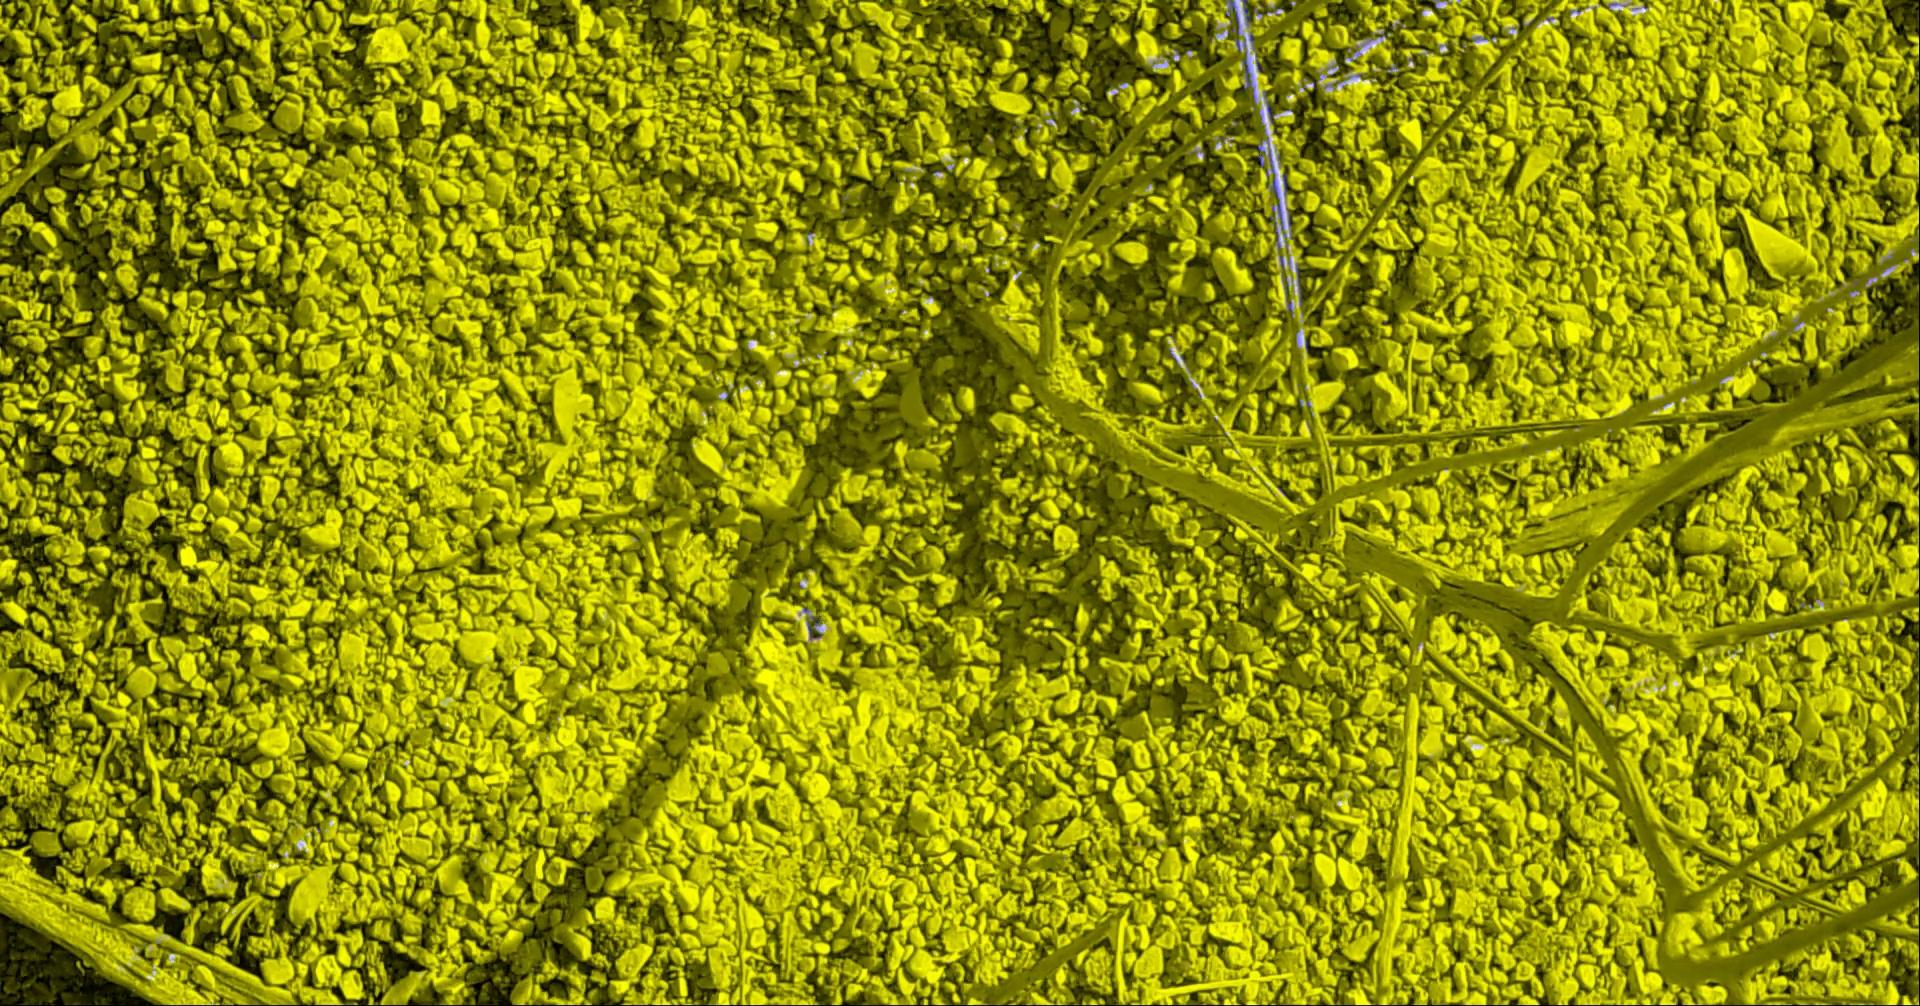ant: (1257, 144, 1283, 232), (1242, 52, 1253, 98), (1224, 0, 1238, 34), (808, 616, 822, 638)
